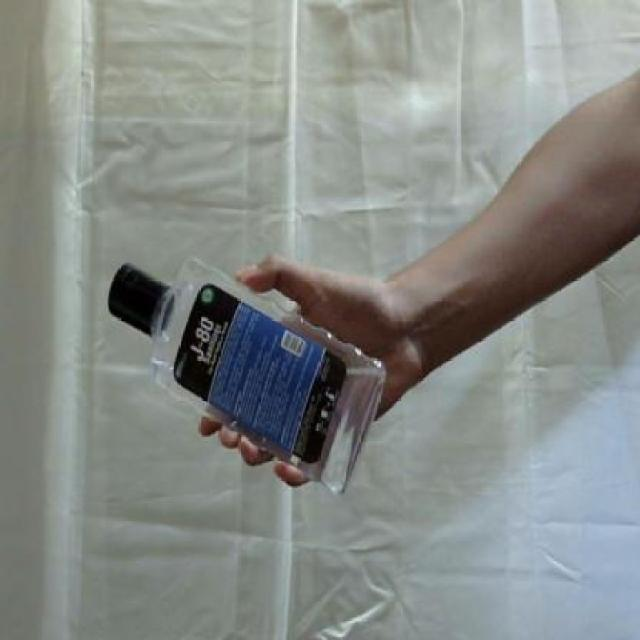Plastic: (98, 242, 393, 499)
